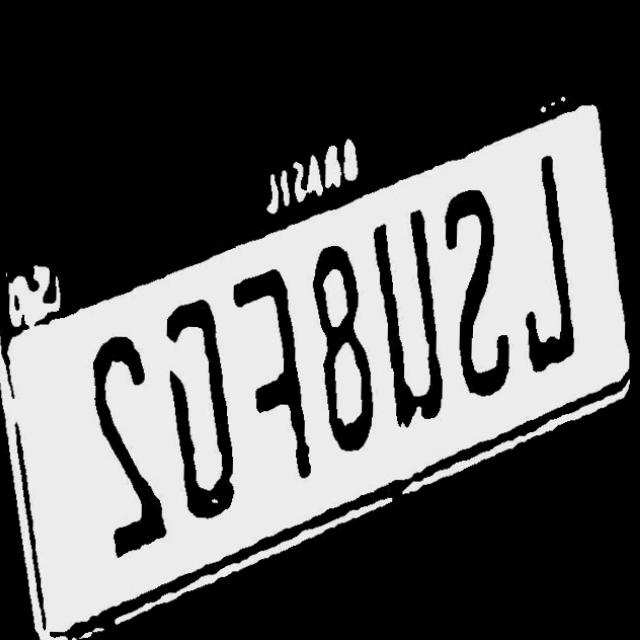0: (162, 297, 244, 521)
2: (86, 335, 176, 558)
8: (307, 240, 382, 456)
f: (229, 265, 320, 477)
l: (517, 146, 583, 370)
s: (440, 186, 514, 397)
u: (365, 208, 451, 431)
